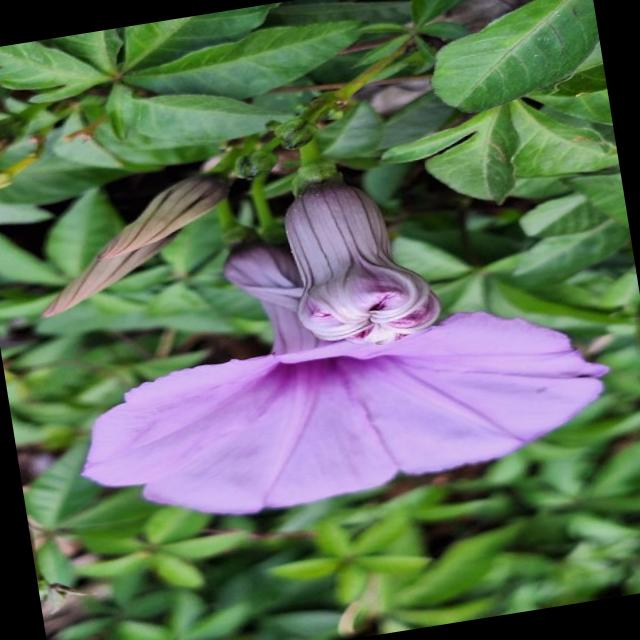ipomoea: (38, 141, 626, 543), (268, 163, 451, 360)
